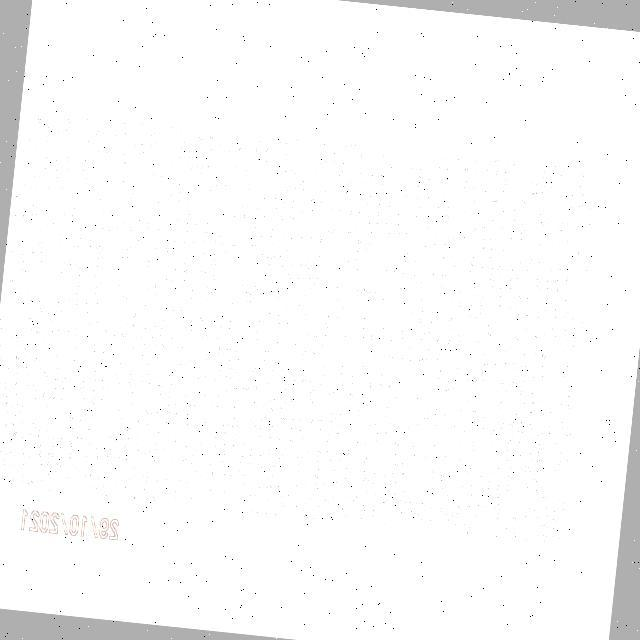Dent: (0, 110, 599, 545)
